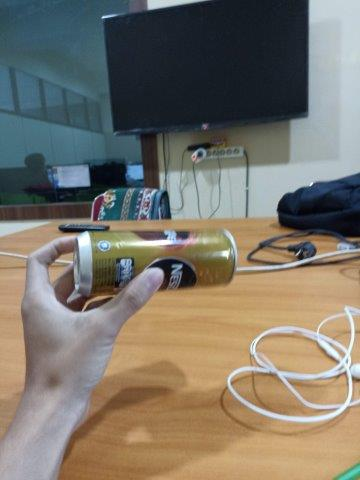kaleng: (73, 228, 238, 296)
